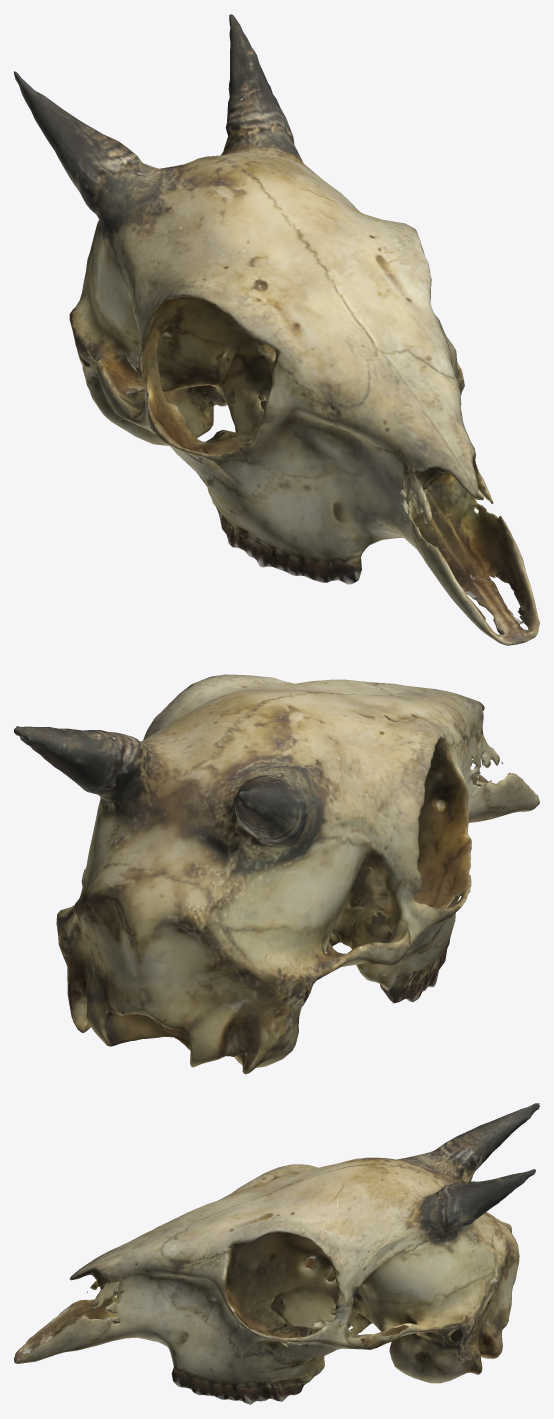
File: skull.obj
3 renders of one model, top to bottom at view 1: azimuth 30°, elevation 25°; view 2: azimuth 150°, elevation 25°; view 3: azimuth 270°, elevation 25°, orthographic. The views are drawn at different scales.
Visible parts, largest first — view 1: animal_skull_low_animal_skull.001; view 2: animal_skull_low_animal_skull.001; view 3: animal_skull_low_animal_skull.001.
Part boxes in pixels (x1,y1,x2,y2): animal_skull_low_animal_skull.001: [14, 14, 539, 645]; animal_skull_low_animal_skull.001: [14, 674, 539, 1074]; animal_skull_low_animal_skull.001: [14, 1103, 539, 1404].
Size of the model in its own units: 0.1081 by 0.1265 by 0.2503.
Materials: 1 (1 with a texture image).
